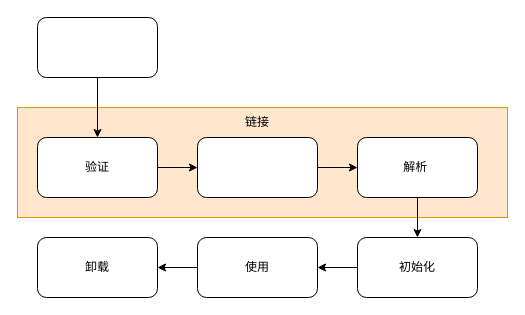
The diagram is 525 pixels wide and 315 high, and some of its shapes have lost their labels. Here are the shapes that lost their labels. From the top down, the box of each, then its label:
(36, 16, 158, 78): 加载
(196, 136, 318, 198): 准备
